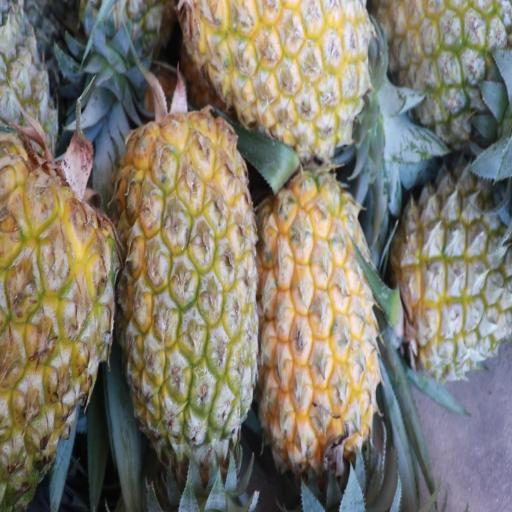------------------------------: (399, 170, 512, 384)
Pineapple - v8 v1: (120, 116, 254, 452), (0, 138, 115, 512), (257, 182, 376, 473), (182, 0, 368, 139), (384, 0, 512, 137)
